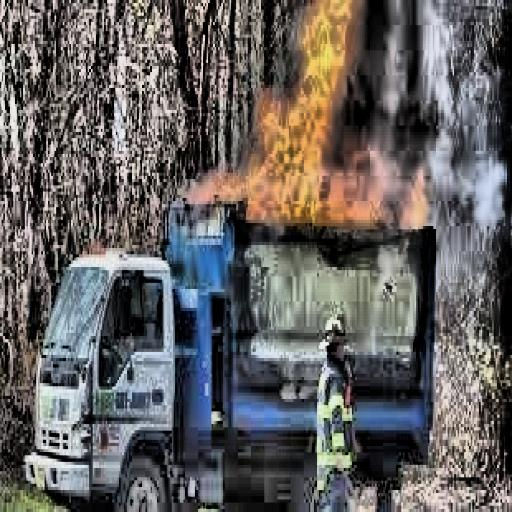fire: (188, 0, 449, 251)
